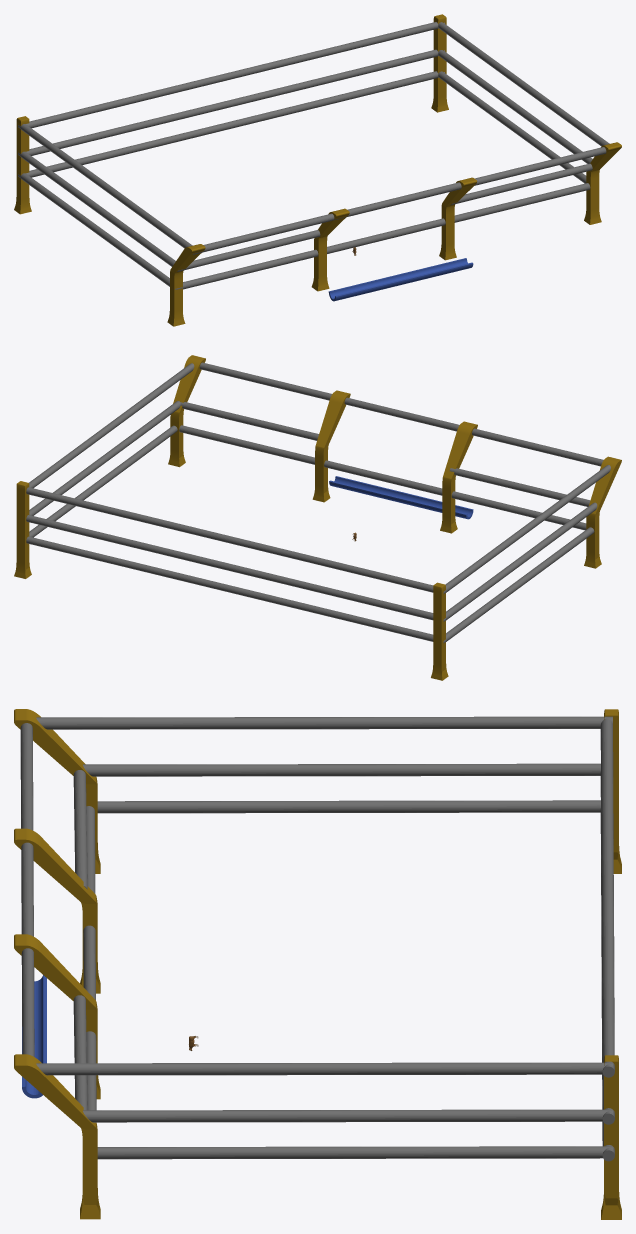
File: Cowcell.gltf
3 views of the same model, one above another, from view 1: azimuth 30°, elevation 25°; view 2: azimuth 150°, elevation 25°; view 3: azimuth 270°, elevation 25° (orthographic). The views are drawn at different scales.
Parts seen in each view (by area): view 1: Cylinder.014, Cylinder.013, Cylinder.012, Cylinder.001, Cylinder.002, foodcontainer, Cylinder.011, Cylinder.008, Cylinder.010, Cylinder.009, Cylinder.007, Cylinder.006 (+8 smaller); view 2: Cylinder.014, Cylinder.012, Cylinder.013, Cylinder.002, Cylinder.001, Cube.001, Cube.002, Cylinder.011, Cylinder.008, foodcontainer, Cube.004, Cylinder.010 (+8 smaller); view 3: Cylinder.008, Cylinder.011, Cylinder.007, Cylinder.010, Cylinder.006, Cylinder.009, Cylinder.014, Cylinder.002, Cube.003, Cube.002, Cylinder.001, Cube.001 (+6 smaller).
Part boxes in pixels (left/top/right/bottom): Cylinder.014: left=26, top=22, right=444, bottom=128; Cylinder.013: left=26, top=49, right=444, bottom=155; Cylinder.012: left=26, top=71, right=444, bottom=177; Cylinder.001: left=175, top=183, right=590, bottom=289; Cylinder.002: left=193, top=147, right=606, bottom=254; foodcontainer: left=328, top=258, right=473, bottom=301; Cylinder.011: left=18, top=124, right=192, bottom=248; Cylinder.008: left=438, top=22, right=609, bottom=146; Cylinder.010: left=18, top=151, right=175, bottom=266; Cylinder.009: left=18, top=173, right=169, bottom=286; Cylinder.007: left=438, top=50, right=592, bottom=163; Cylinder.006: left=438, top=71, right=586, bottom=183; Cylinder.014: left=26, top=487, right=433, bottom=592; Cylinder.012: left=26, top=536, right=433, bottom=641; Cylinder.013: left=26, top=515, right=433, bottom=620; Cylinder.002: left=199, top=362, right=603, bottom=466; Cylinder.001: left=179, top=425, right=586, bottom=530; Cube.001: left=312, top=390, right=350, bottom=502; Cube.002: left=440, top=421, right=477, bottom=533; Cylinder.011: left=443, top=465, right=610, bottom=593; Cylinder.008: left=29, top=363, right=194, bottom=488; foodcontainer: left=329, top=476, right=473, bottom=519; Cube.004: left=584, top=456, right=621, bottom=568; Cylinder.010: left=443, top=502, right=597, bottom=621; Cylinder.008: left=36, top=1062, right=612, bottom=1075; Cylinder.011: left=36, top=716, right=612, bottom=729; Cylinder.007: left=83, top=1109, right=612, bottom=1122; Cylinder.010: left=83, top=763, right=600, bottom=776; Cylinder.006: left=97, top=1146, right=612, bottom=1159; Cylinder.009: left=97, top=800, right=600, bottom=813; Cylinder.014: left=600, top=718, right=614, bottom=1077; Cylinder.002: left=20, top=723, right=34, bottom=1056; Cube.003: left=14, top=1054, right=100, bottom=1219; Cube.002: left=14, top=828, right=100, bottom=993; Cylinder.001: left=83, top=806, right=96, bottom=1110; Cube.001: left=14, top=934, right=100, bottom=1099.
Size of the model in its own units: 4.07 by 0.8853 by 2.93.
